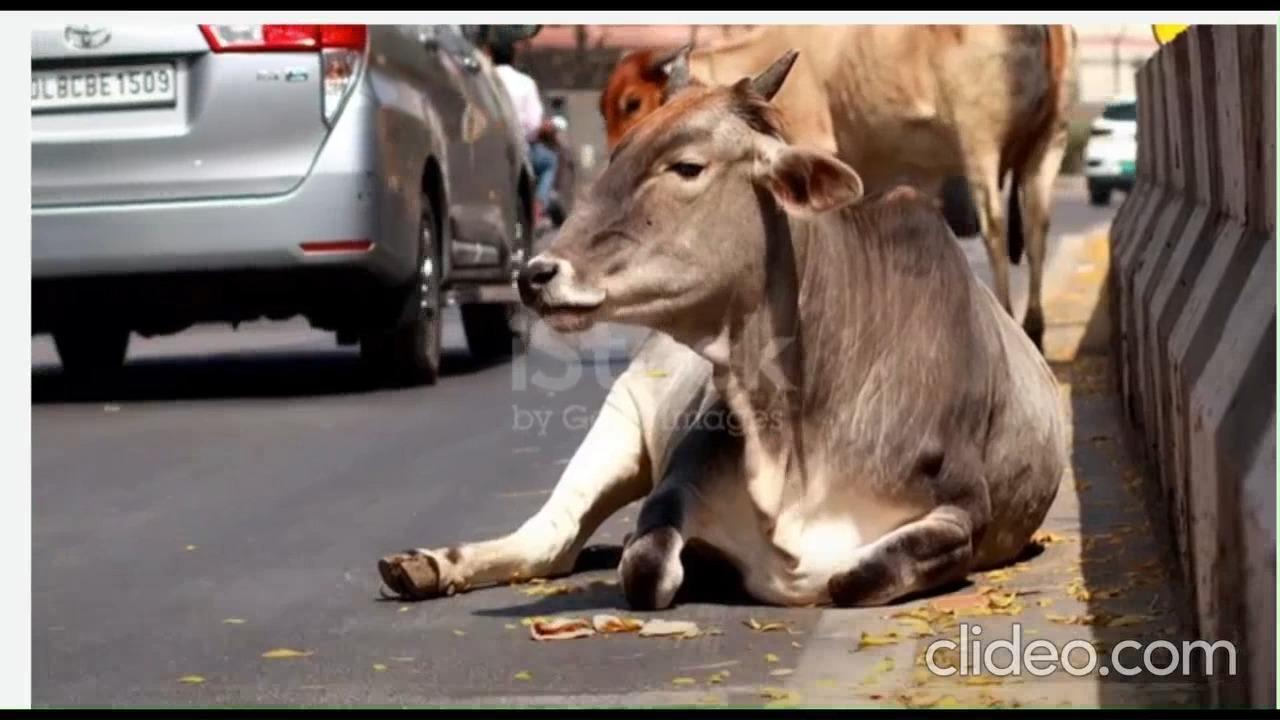Cow: (374, 52, 1068, 603), (595, 29, 1078, 353)
